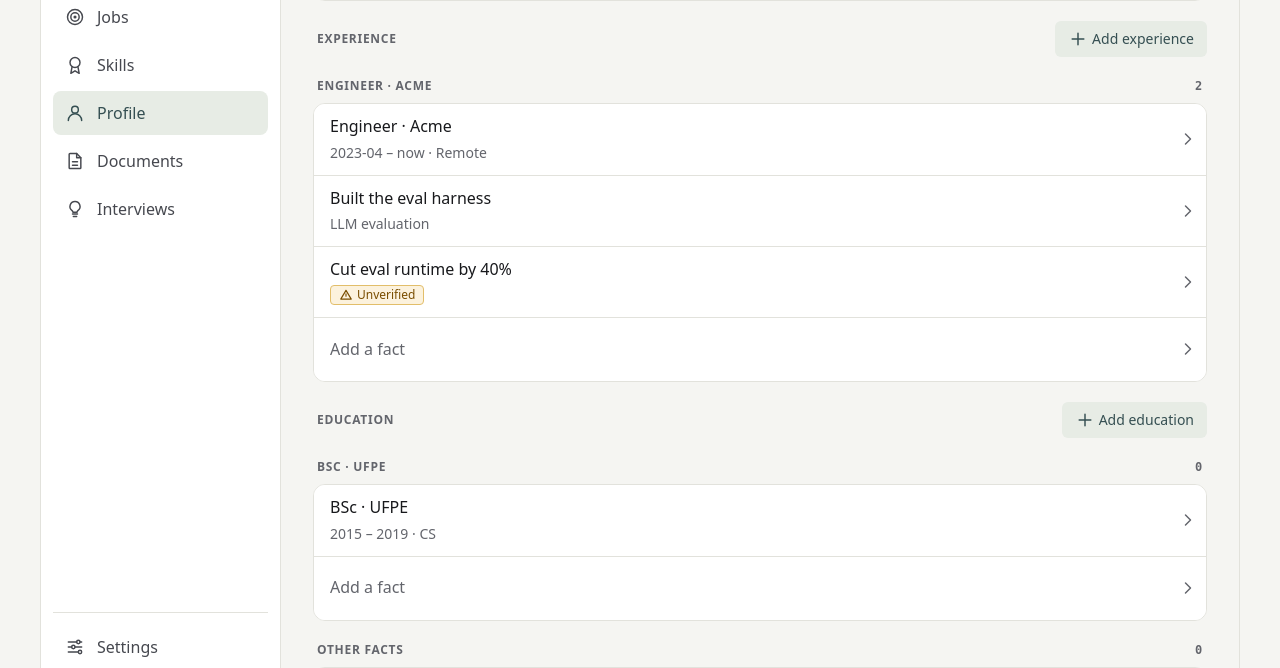
Test: Profile records › verifies a fact in its sheet, with an Idempotency-Key, then reads again
The width and height of the screenshot is (1280, 668).
(page scrolled)
Click the button "Cut eval runtime by 40%".
click(421, 269)  # box top-left (314, 246), bottom-right (1206, 317)
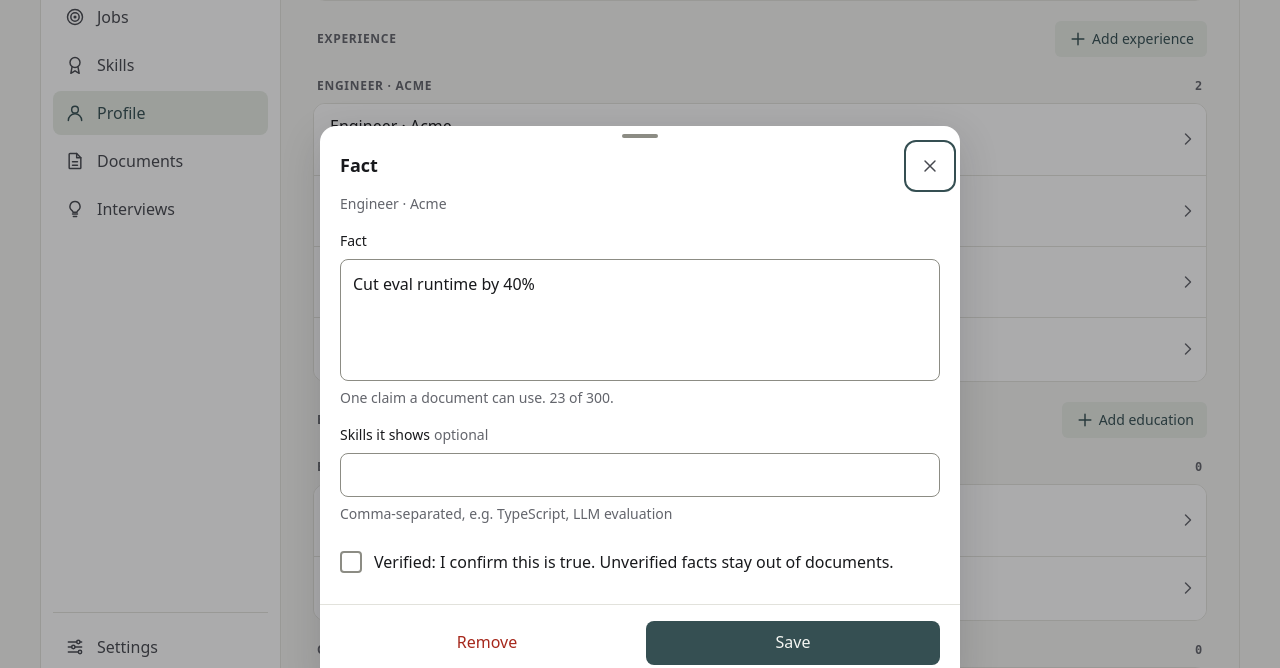
Click the checkbox labelled "Verified".
click(351, 562)  # box top-left (340, 551), bottom-right (362, 573)
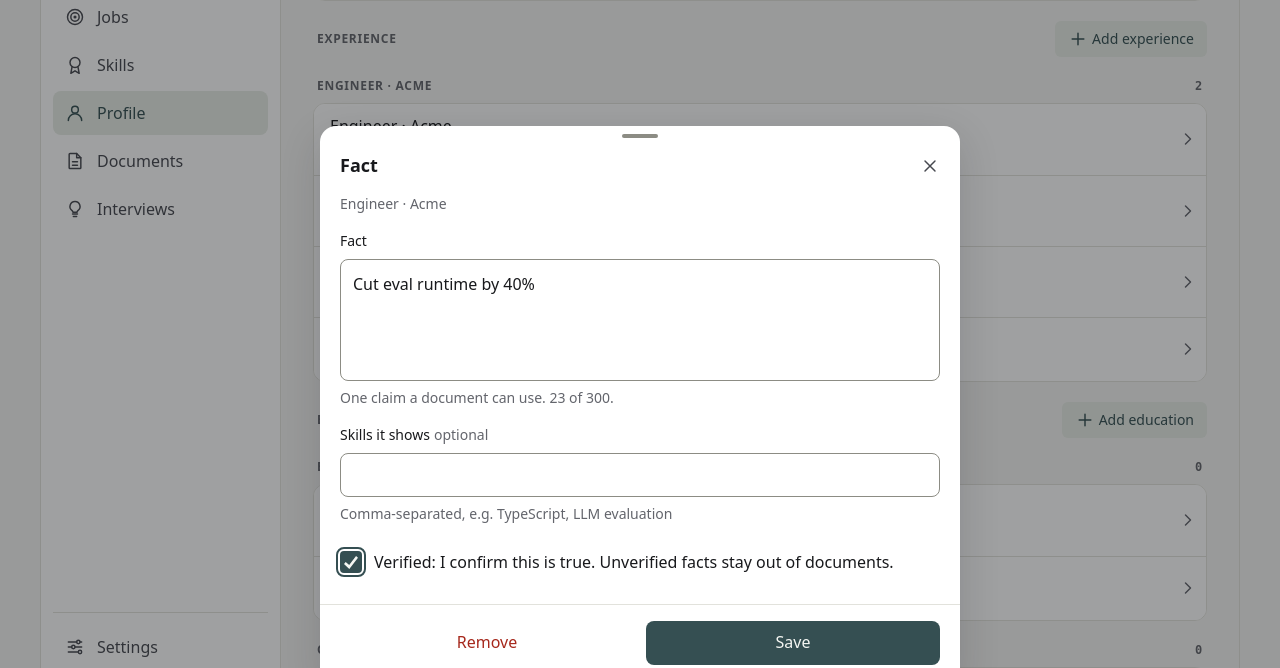
Click the button "Save".
click(793, 643)  # box top-left (646, 621), bottom-right (940, 665)
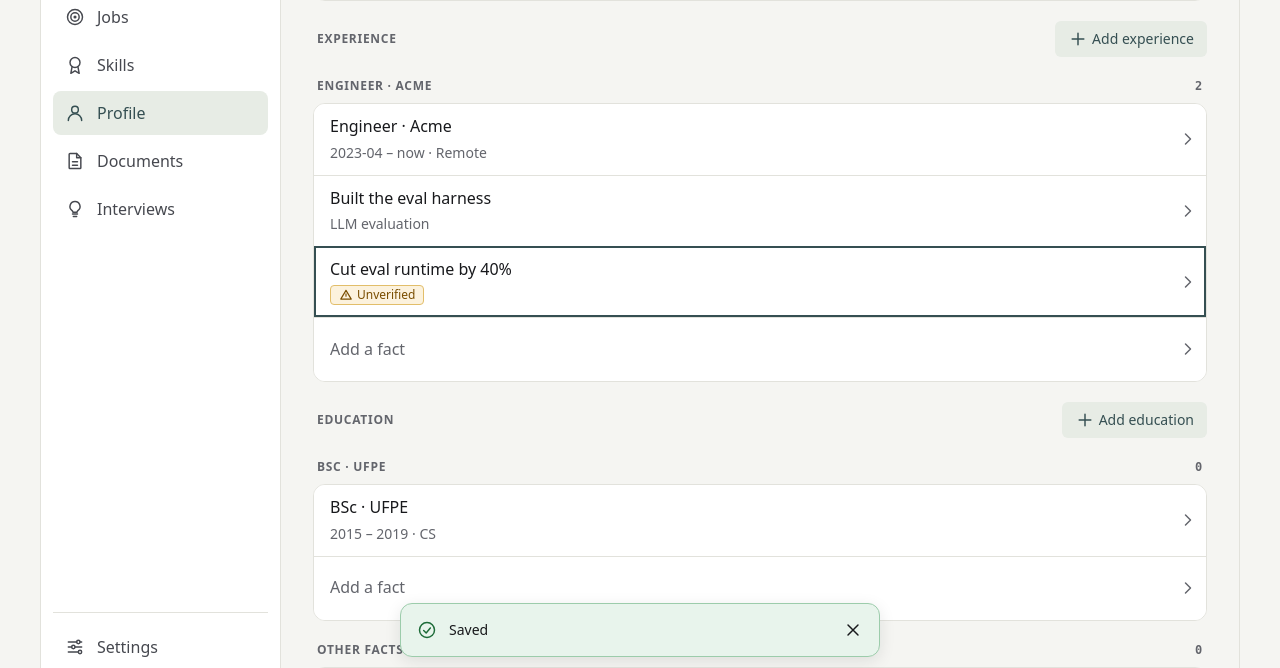
Result: the text "Saved" is shown at top-left (449, 620), bottom-right (488, 638)
